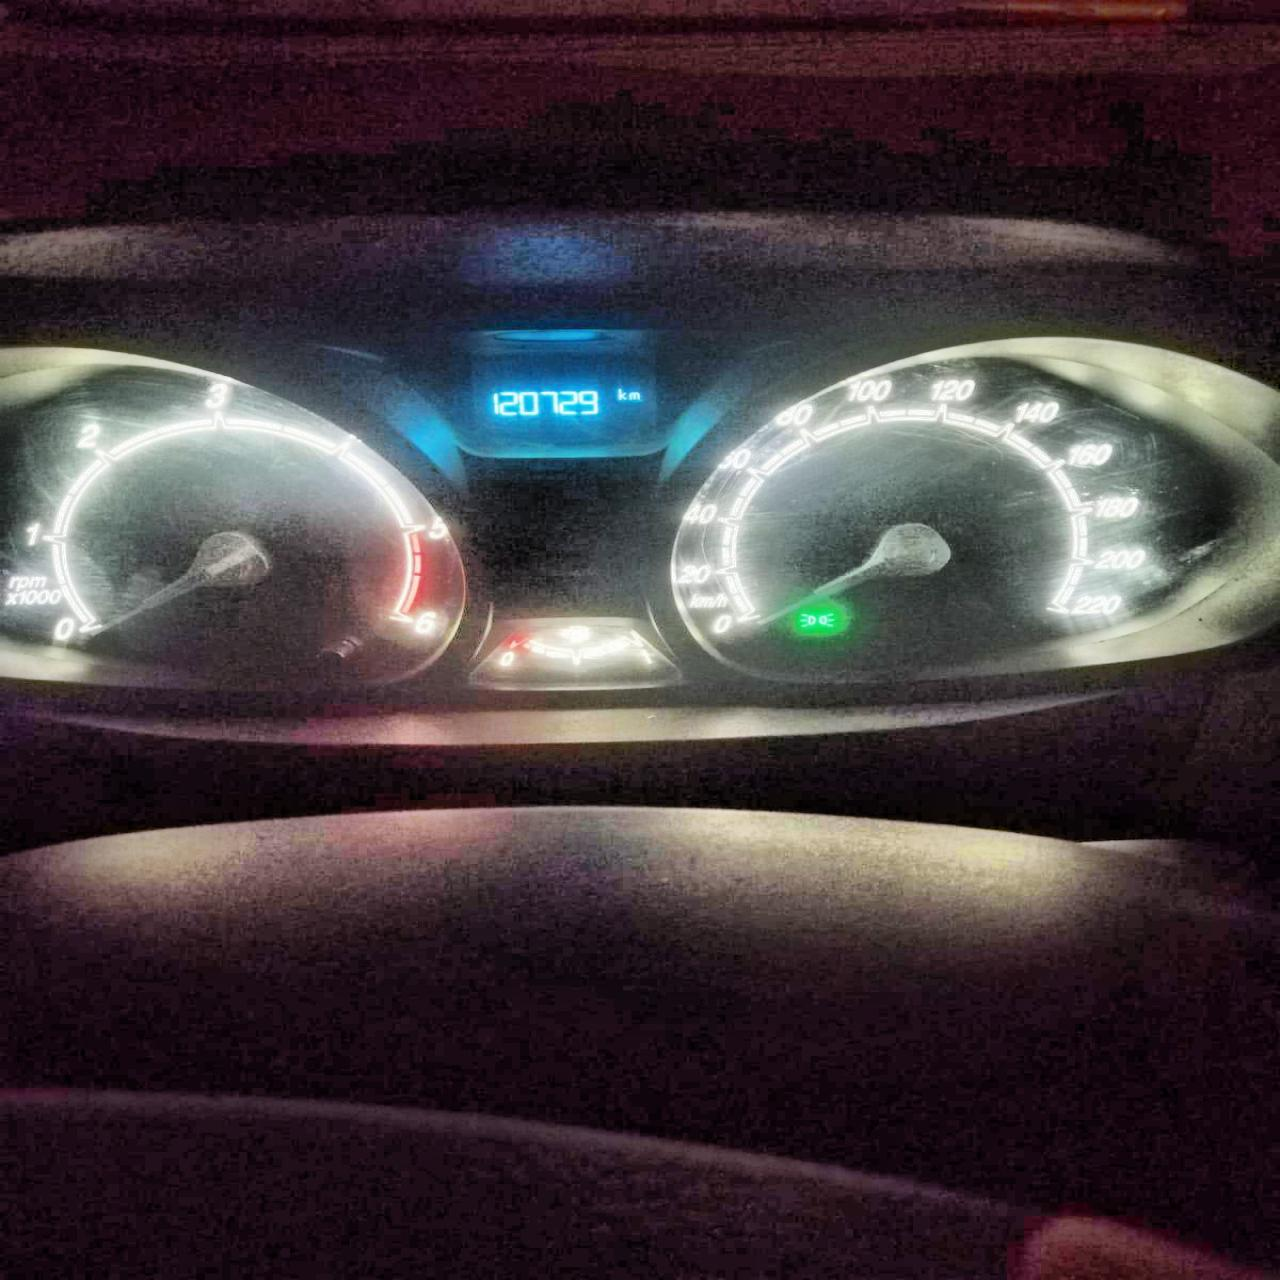0: (517, 390, 538, 415)
1: (491, 392, 498, 417)
2: (558, 389, 577, 415), (498, 390, 517, 416)
7: (539, 390, 558, 414)
9: (578, 389, 597, 415)
X: (617, 388, 627, 400), (628, 390, 640, 400)
odometer: (449, 365, 667, 454)
